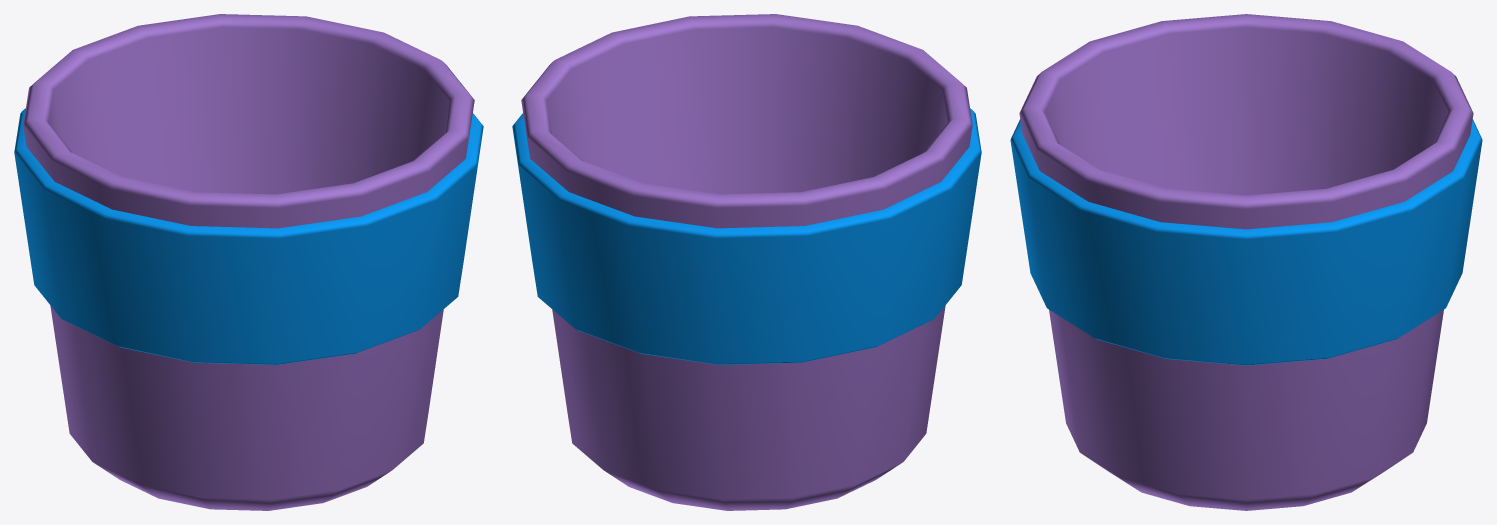
The model's file is Public_8_Cup_3.glb.
The picture shows the model from 3 angles, left to right: view 1: azimuth 30°, elevation 25°; view 2: azimuth 150°, elevation 25°; view 3: azimuth 270°, elevation 25°; orthographic projection.
Parts seen in each view (by area): view 1: Public_8_Cup_3; view 2: Public_8_Cup_3; view 3: Public_8_Cup_3.
Part boxes in pixels (left/top/right/bottom): Public_8_Cup_3: left=14, top=14, right=483, bottom=510; Public_8_Cup_3: left=512, top=14, right=981, bottom=510; Public_8_Cup_3: left=1010, top=14, right=1482, bottom=510.
Size of the model in its own units: 0.8312 by 0.6616 by 0.8311.
1 material, 1 textured.
